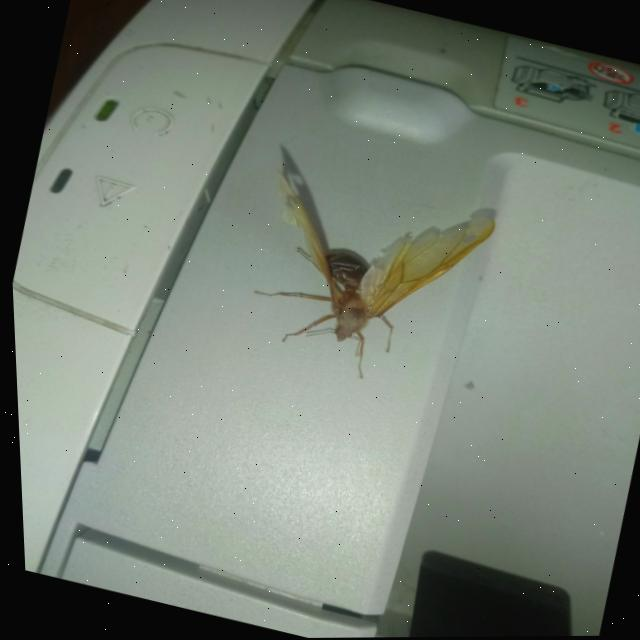Alive-Male-Alate: (227, 165, 501, 405)
